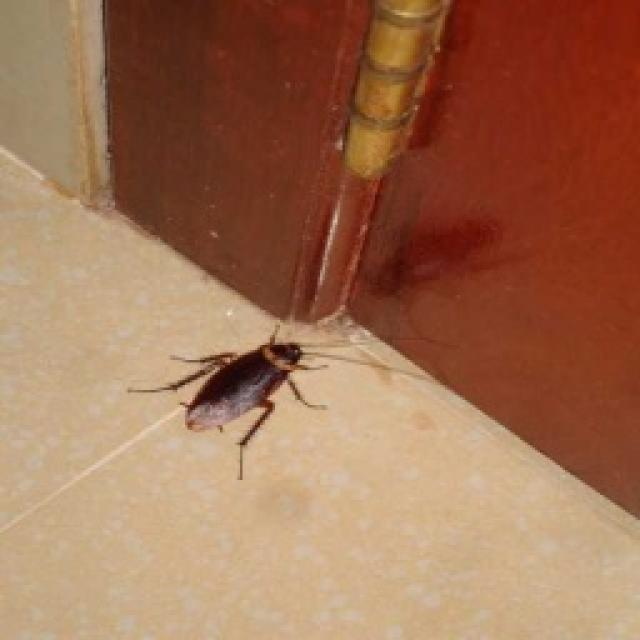cockroach: (150, 306, 353, 483)
